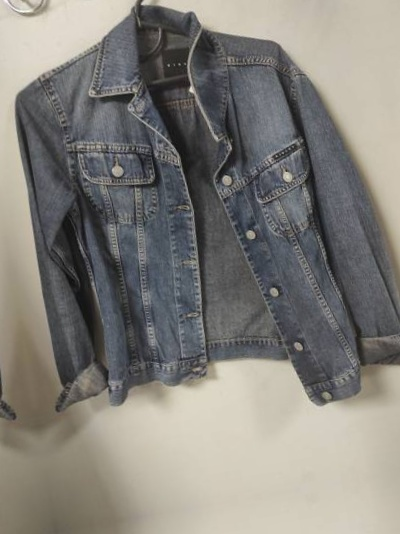Blazer: (0, 0, 400, 453), (0, 43, 25, 521), (384, 0, 400, 385)
